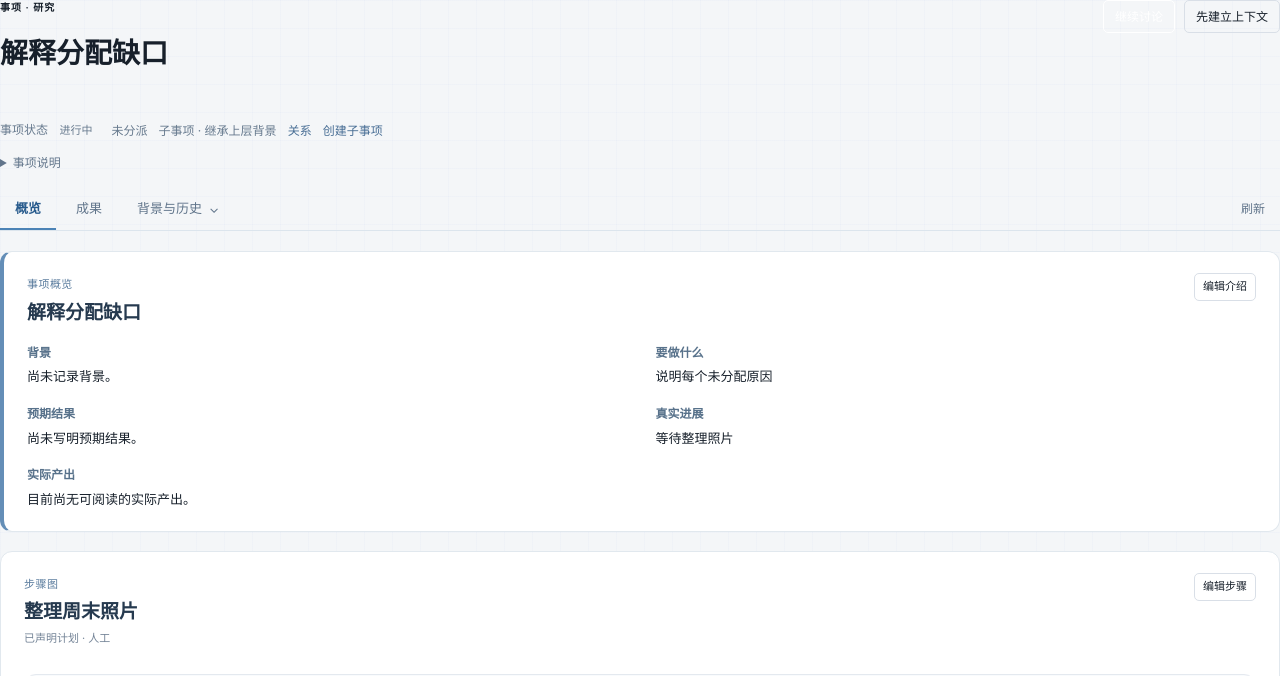
it: 事项页委托 › 父共同背景缺失时，仍在父事项建立背景，不误发子事项运行
Click the button "先建立上下文" at (1232, 16), box [1184, 0, 1279, 33]
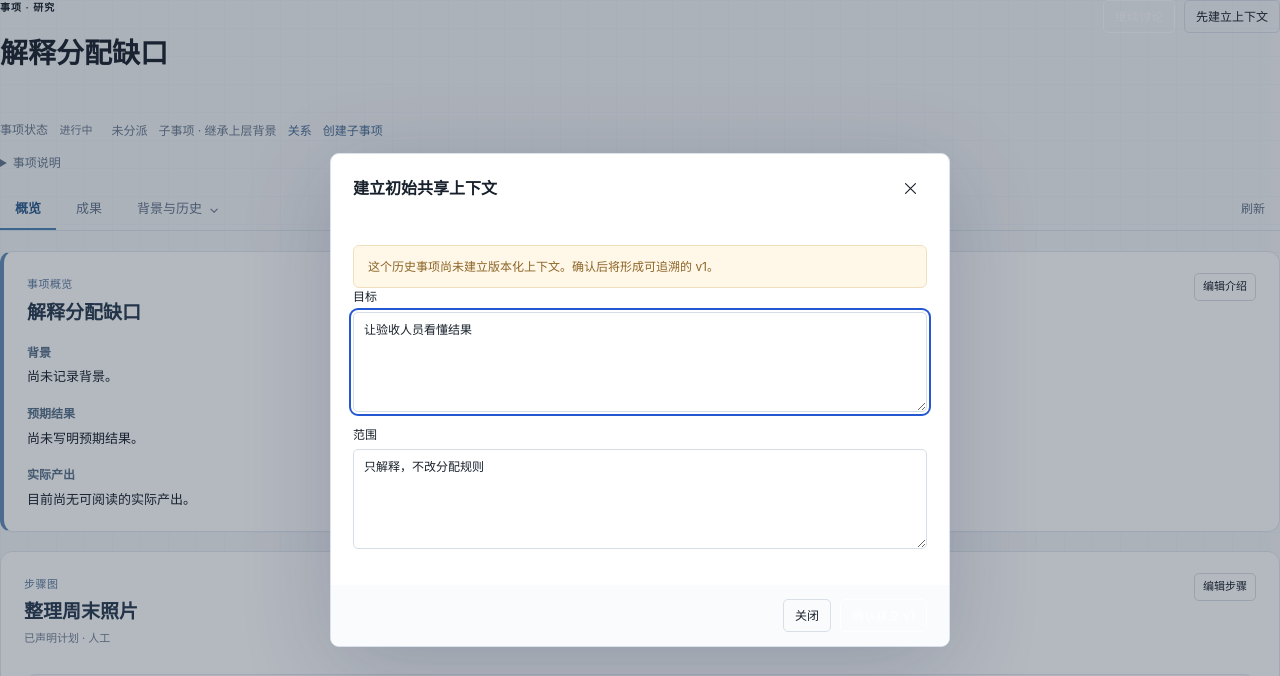
Check: the dialog "建立初始共享上下文" is shown, box [330, 153, 950, 647]
Check: the text box labelled "目标" holds "让验收人员看懂结果", box [353, 312, 927, 412]
